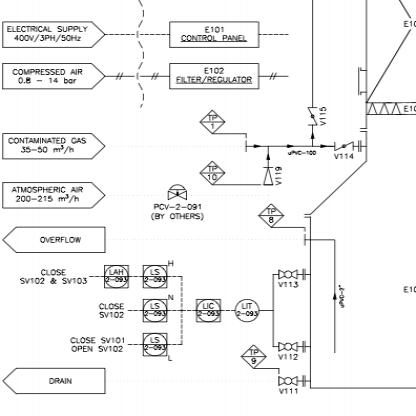LMI: (235, 297, 260, 326)
TAG: (195, 296, 222, 328), (142, 263, 168, 293), (104, 263, 130, 290), (143, 297, 168, 324), (142, 331, 168, 356)
